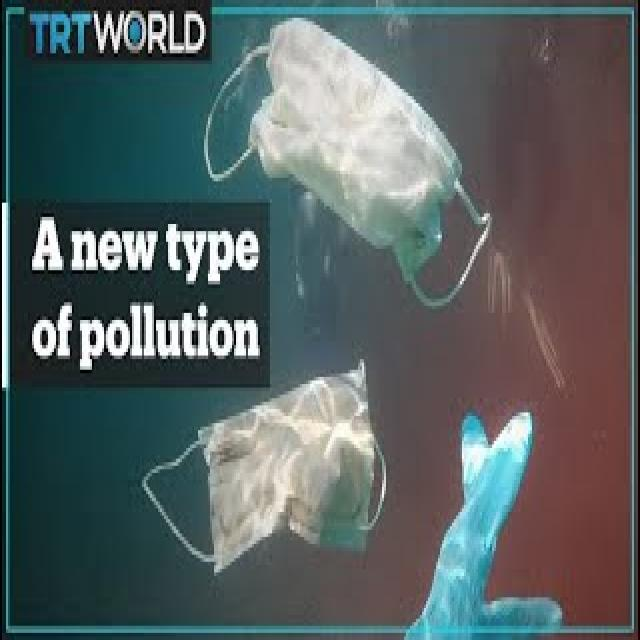non-organic waste: (198, 25, 492, 302), (140, 362, 384, 580)
